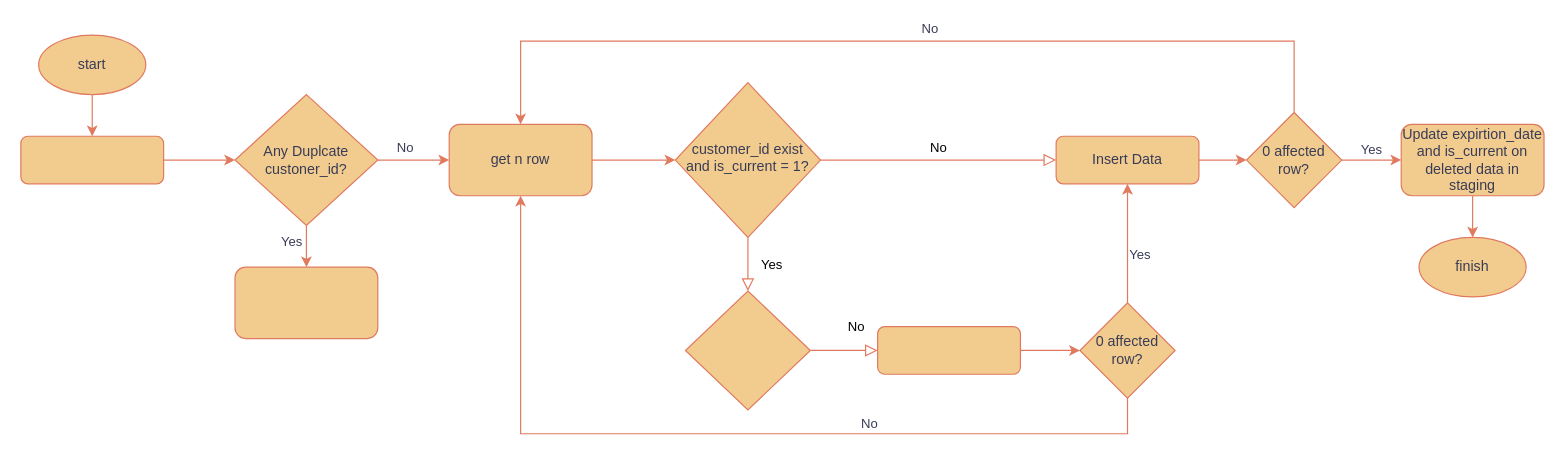
The diagram is 1565 pixels wide and 464 high, and some of its shapes have lost their labels. The shapes that lost their labels are listed below. From the top down, each one's centre as x and y in pixels, then its label:
At [92,159]: "Data Input from staging".
At [306,302]: "raise error".
At [747,350]: "Other column value are equal?".
At [948,349]: "Update sxpiration date and is_current".
